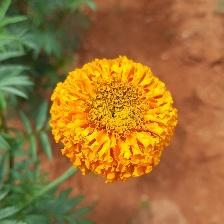marigold: (49, 55, 180, 187)
